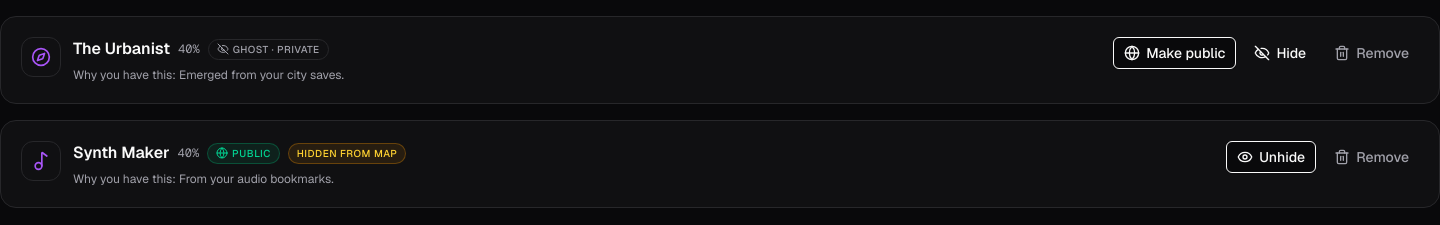
Test: MyParallelsManager › renders Public, Ghost, and Hidden statuses with plain-language explanations and supports publish, hide, unhide, and confirmed remove
The image size is (1440, 225).
Expected: the text "Ghost · Private" is shown, [208,38,329,60]
Expected: the text "Hidden from map" is shown, [288,142,406,164]
// Publish Ghost Parallel
Click the button "Make public".
click(1175, 53)  # box [1113,37,1236,69]
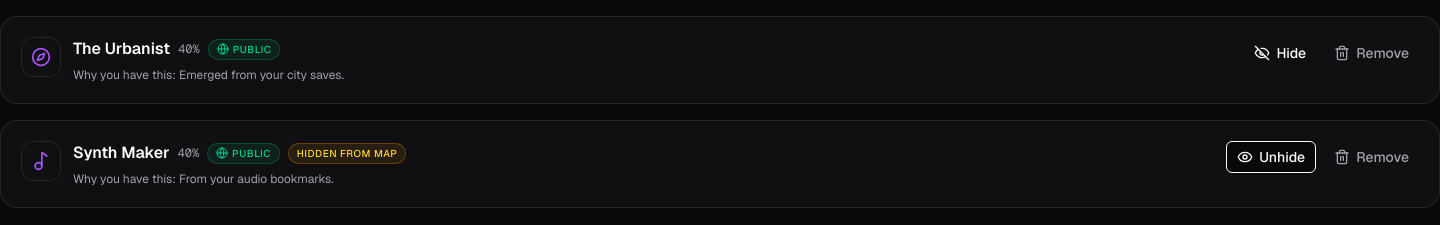
Result: the text "Ghost · Private" is gone
// Unhide hidden Parallel
Click the button "Unhide".
click(1271, 157)  # box [1226,141,1316,173]
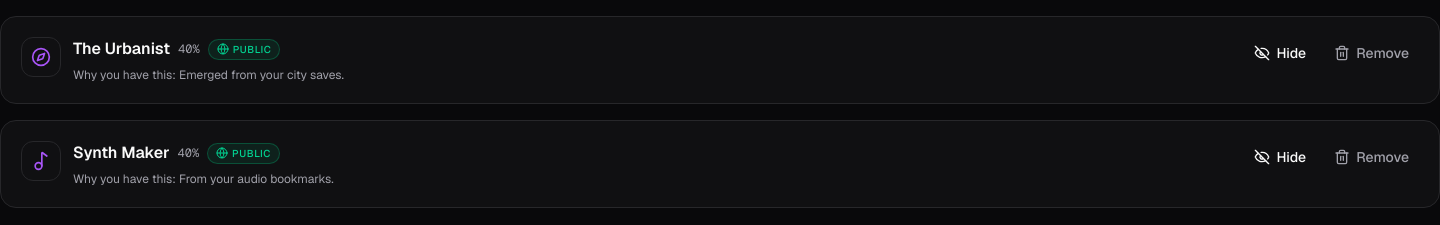
Result: the text "Hidden from map" is gone
// Remove requires confirmation before calling dismiss
Click the button "Remove" in the row of "The Urbanist".
click(1372, 53)  # box [1324,37,1419,69]
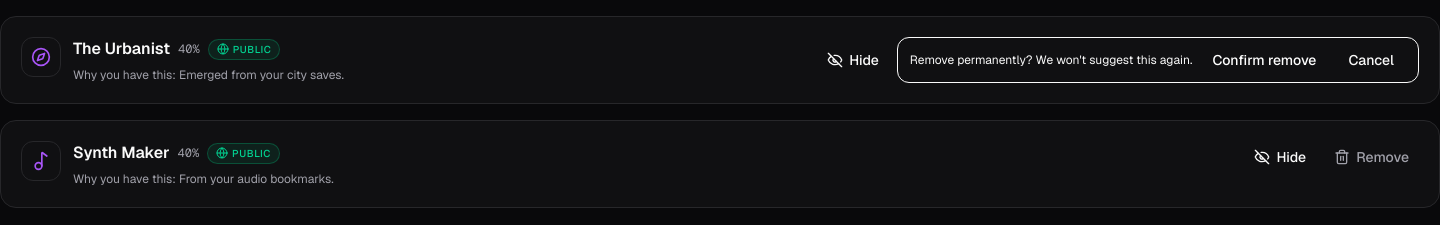
Click the button "Confirm remove".
click(1264, 60)  # box [1200,44,1328,76]
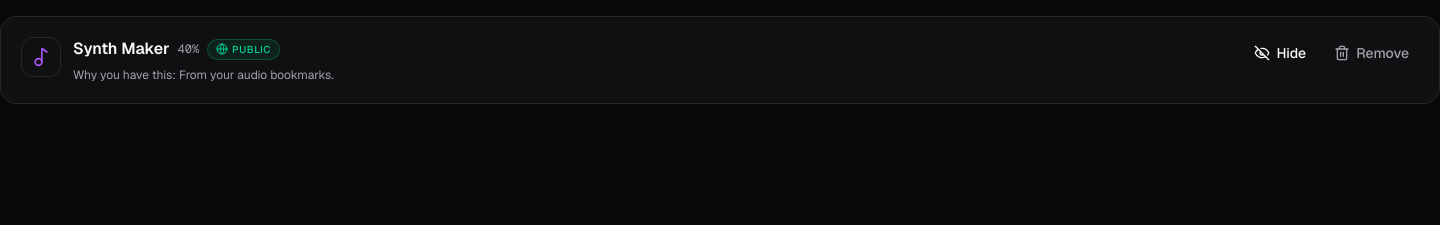
Result: the heading "The Urbanist" is gone
